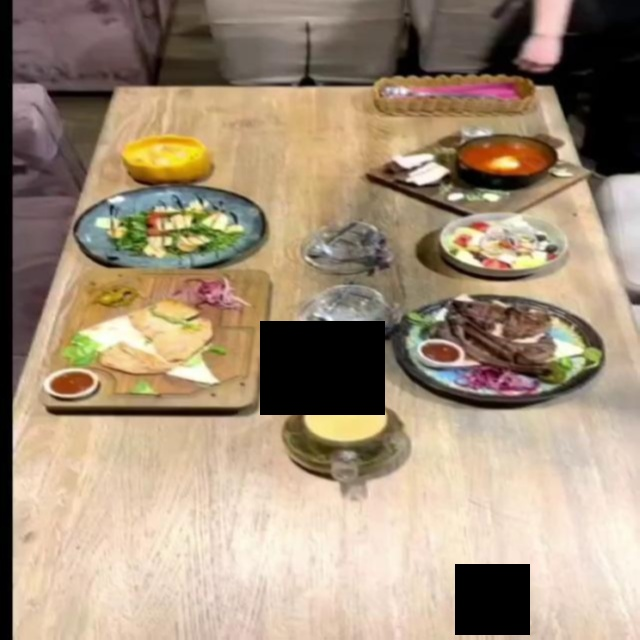meat: (34, 269, 277, 417), (390, 294, 606, 404)
salad: (73, 185, 265, 268), (439, 212, 571, 277)
soup: (385, 130, 569, 206), (121, 136, 210, 186)
tea: (281, 398, 408, 481)
